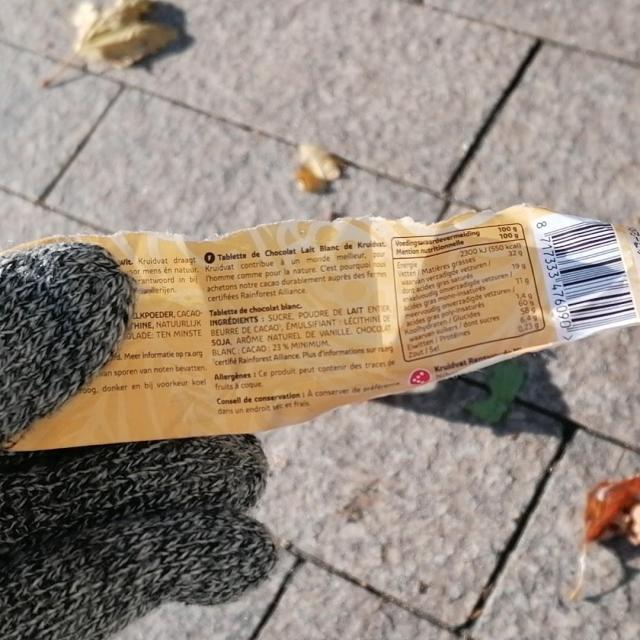Plastic: (3, 200, 640, 460)
